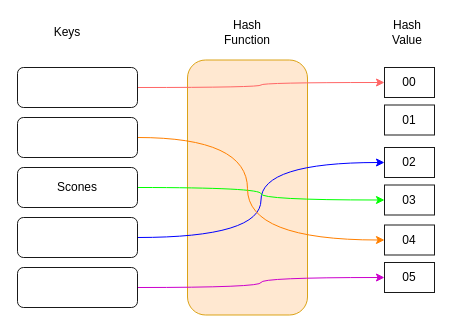
Image size: 455x332. Some labels were removed from this diagram. The box of each missing label's shape, as (x1, y1, x2, y2) in pixels:
Carrot Cake: (16, 66, 138, 108)
Coffee Cake: (16, 116, 138, 158)
Muffin: (16, 266, 138, 308)
Pastel De Nata: (16, 216, 138, 258)
